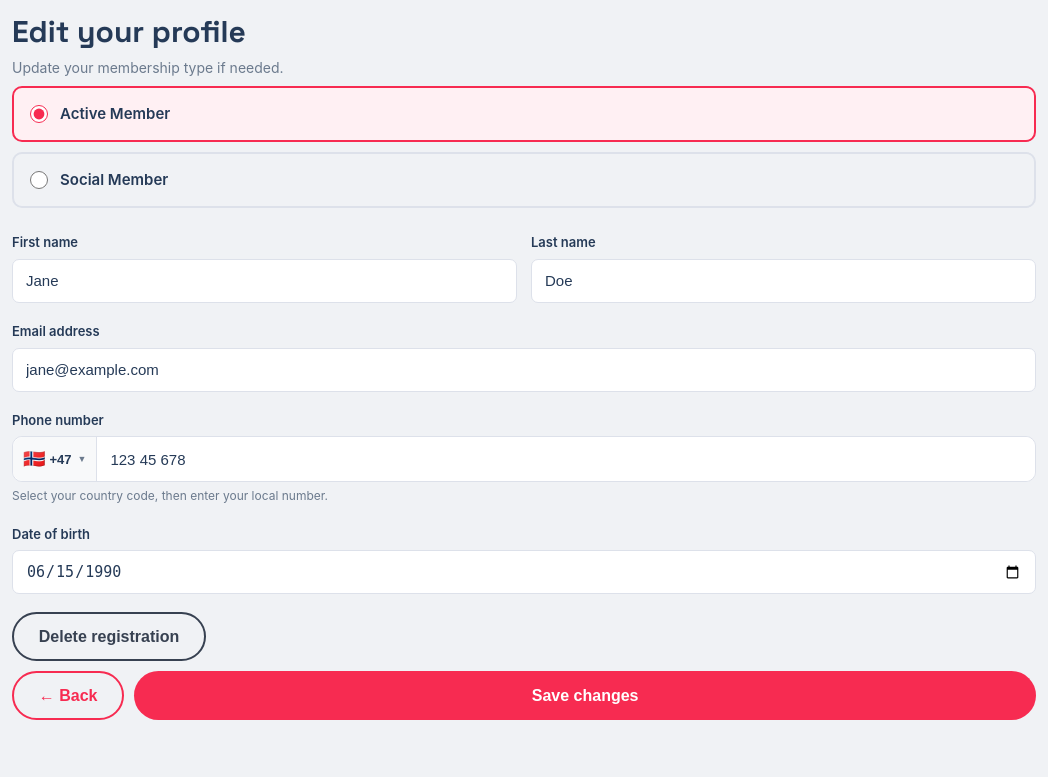
Test: ManageRegistration — edit mode › shows duplicate-email error from server on save
The width and height of the screenshot is (1048, 777).
Click the button "Save changes" at (585, 696), box top-left (134, 671), bottom-right (1036, 720)
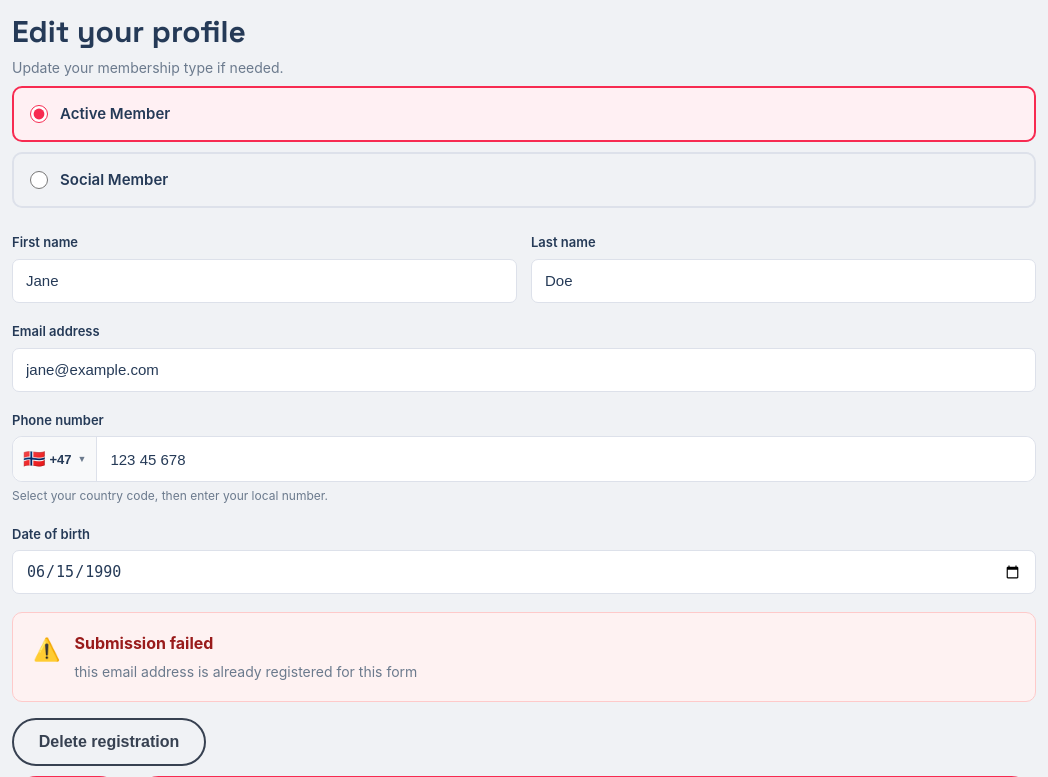
expect the message shows "already registered": met, box top-left (74, 663), bottom-right (417, 680)
